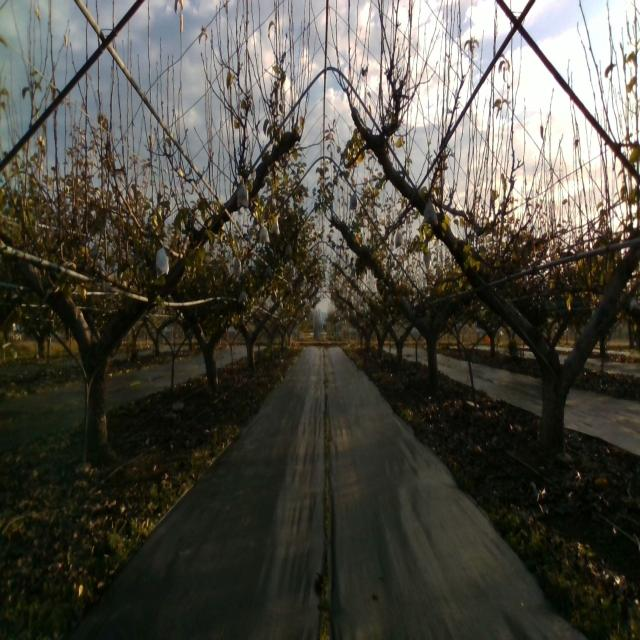pearbags: (156, 240, 170, 280), (421, 198, 438, 226), (237, 178, 249, 208), (259, 221, 270, 243)
